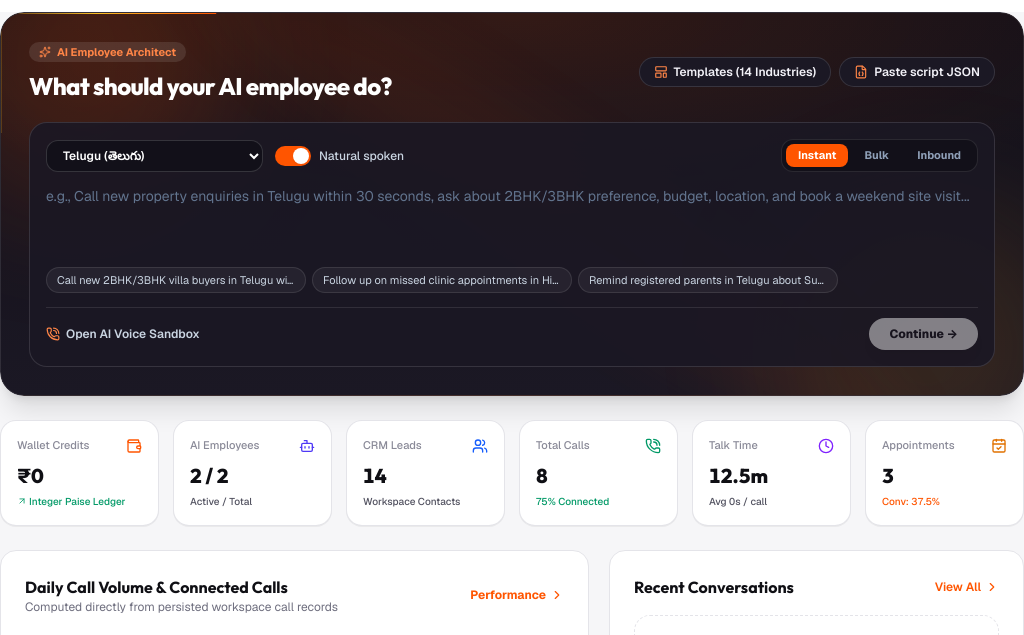
it: Trivaana AI Core UI Components › renders OverviewPanel prompt builder, 14-category template drawer, and live KPI metrics
Expected: the heading "What should your AI employee do?" is shown, [29,70,392,102]
Expected: the text "75% Connected" is shown, [536,495,609,508]
Click the button "Templates (14 Industries)" at (735, 72), box [638,57,831,87]
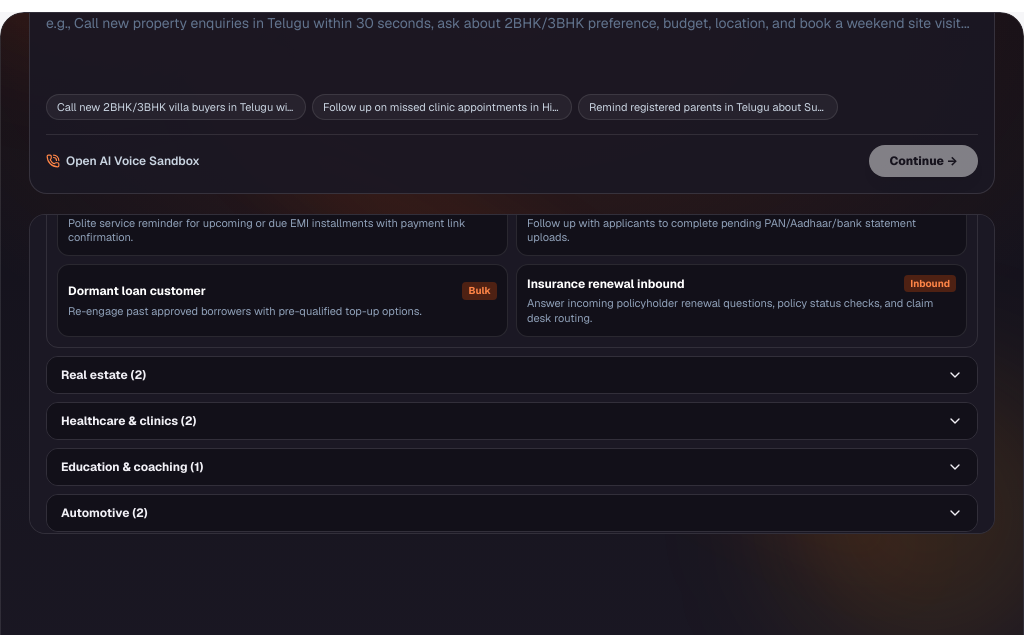
Now the text "Real estate (2)" is shown, box [61,367,146,383]
